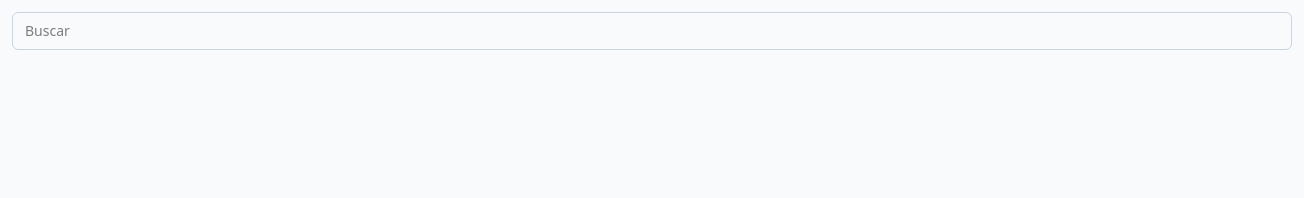
SearchCombobox › se navega con flechas y Enter sin enviar el formulario, y Escape cierra
Focus the dropdown. click: point(652, 31)
box: left=12, top=12, right=1292, bottom=50
Wait 300 ms
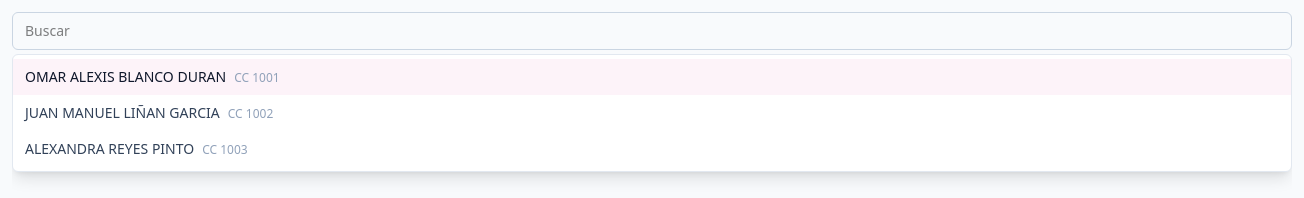
Press ArrowDown in the dropdown, box left=12, top=12, right=1292, bottom=50
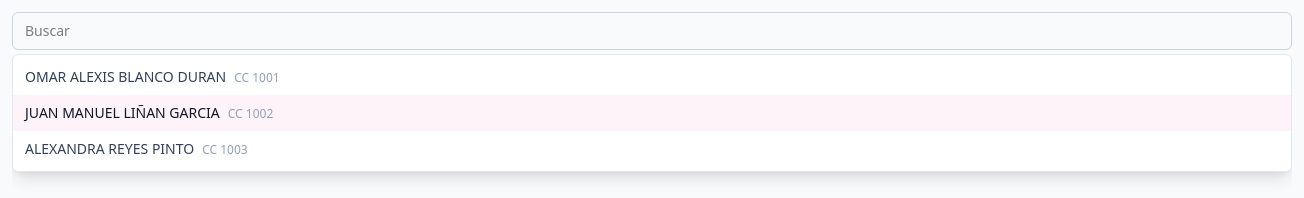
Press Enter in the dropdown, box left=12, top=12, right=1292, bottom=50
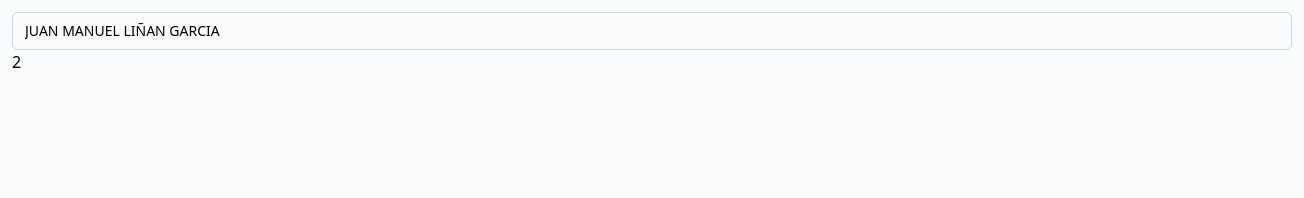
Result: the text with test id "value" reads "2" at left=12, top=51, right=21, bottom=73
Focus the dropdown. click: point(652, 31)
box: left=12, top=12, right=1292, bottom=50
Wait 300 ms
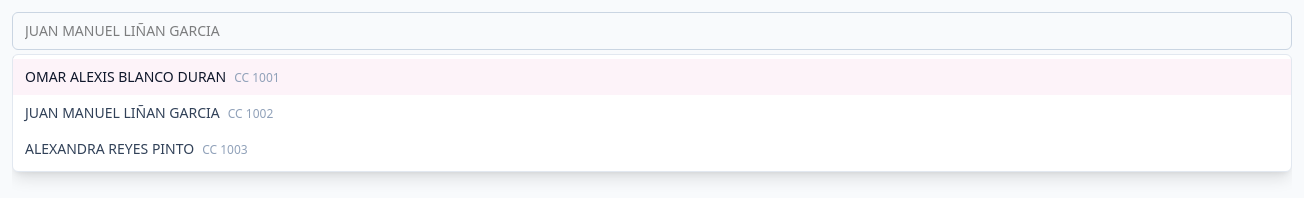
Result: the list is shown at left=12, top=54, right=1292, bottom=172
Press Escape in the dropdown, box left=12, top=12, right=1292, bottom=50
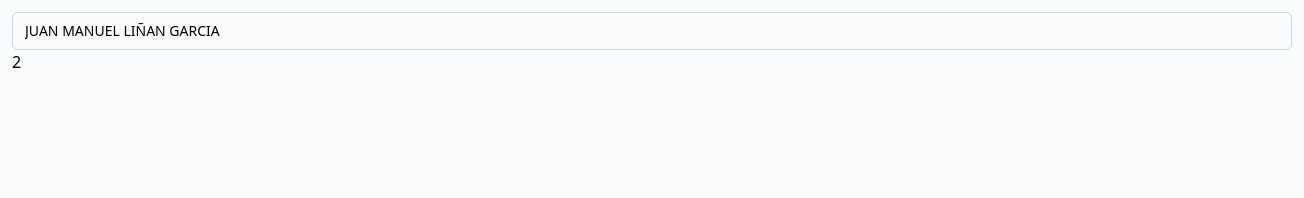
Result: the list is gone
